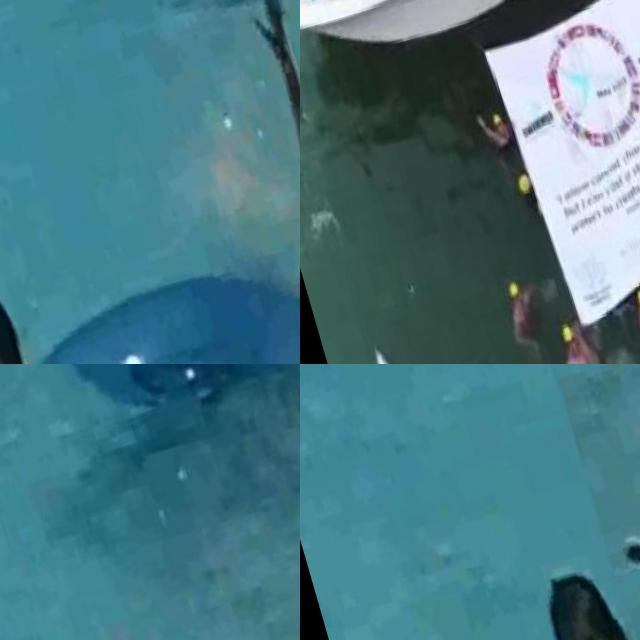drowning: (221, 0, 300, 352), (557, 364, 640, 578), (75, 571, 300, 640), (468, 110, 496, 144)
swimming: (0, 252, 147, 364), (539, 565, 640, 640), (493, 266, 551, 356), (546, 318, 605, 364), (473, 102, 513, 156), (626, 283, 640, 364)
